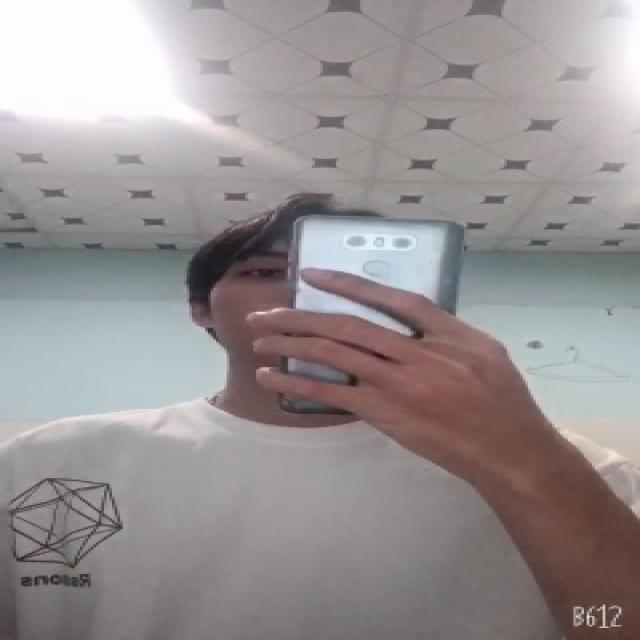Phone: (271, 213, 468, 416)
